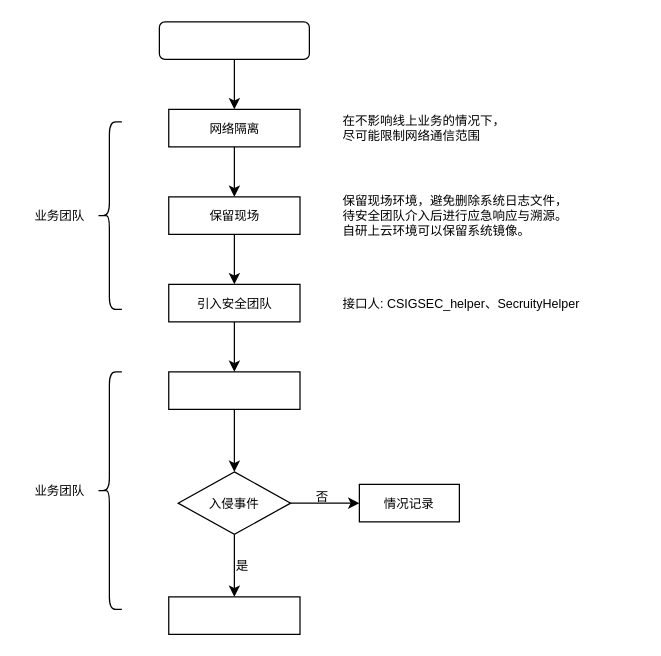
Image size: 661x656. Some labels were removed from this diagram. Here are the shapes that lost their labels. From the top down, the centre of each, then its label:
At (x=233, y=40): "疑似网络、数据安全事件".
At (x=234, y=390): "应急与追溯".
At (x=234, y=615): "转入入侵事件处置流程".
